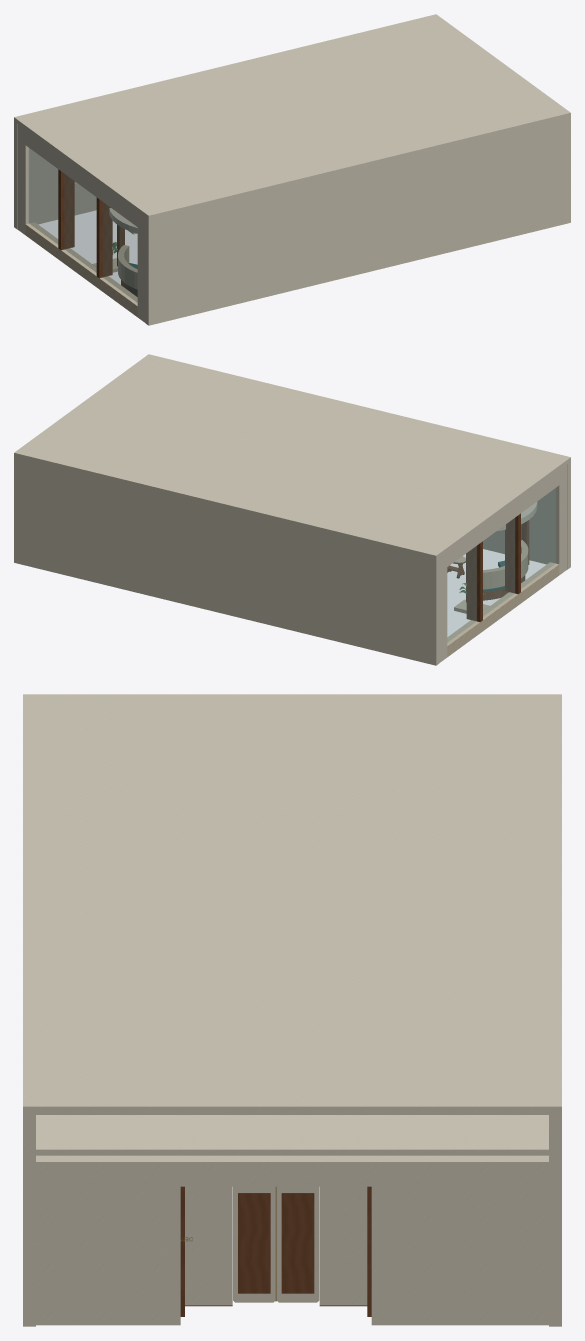
3 views of the same model, one above another, from view 1: azimuth 30°, elevation 25°; view 2: azimuth 150°, elevation 25°; view 3: azimuth 270°, elevation 25° (orthographic). The views are drawn at different scales.
Visible parts, largest first — view 1: UpperPressureClosure, SouthAcousticWall, CourtSealedPane2, CourtSealedPane1, CourtSealedPane0, CourtSill, NorthAcousticWall, CourtHead, CourtWallNorth, CourtDeepMullion0, CourtDeepMullion1, CourtWallSouth (+2 smaller); view 2: UpperPressureClosure, NorthAcousticWall, CourtSealedPane2, CourtSealedPane1, CourtSealedPane0, CourtSill, SouthAcousticWall, CourtHead, CourtWallSouth, CourtDeepMullion0, CourtDeepMullion1, CourtWallNorth (+1 smaller); view 3: UpperPressureClosure, EntryForeReturn, EntryAftReturn, RisingLivingRoof, EntryHeader, PrivateEntry_01_ENTRY_PocketSkin_-1_1, PrivateEntry_01_ENTRY_PocketSkin_1_1, PrivateEntry_01_ENTRY_TimberInset_LEFT_1, PrivateEntry_01_ENTRY_TimberInset_RIGHT_1, NorthAcousticWall, SouthAcousticWall, PrivateEntry_01_ENTRY_MovingPanel_LEFT (+1 smaller).
Part boxes in pixels (bbox=[...]): UpperPressureClosure: bbox=[14, 14, 570, 219]; SouthAcousticWall: bbox=[145, 117, 570, 325]; CourtSealedPane2: bbox=[103, 202, 137, 302]; CourtSealedPane1: bbox=[64, 174, 96, 272]; CourtSealedPane0: bbox=[29, 148, 57, 244]; CourtSill: bbox=[25, 222, 137, 316]; NorthAcousticWall: bbox=[14, 121, 76, 229]; CourtHead: bbox=[25, 130, 137, 226]; CourtWallNorth: bbox=[17, 124, 34, 234]; CourtDeepMullion0: bbox=[58, 169, 74, 250]; CourtDeepMullion1: bbox=[96, 197, 112, 278]; CourtWallSouth: bbox=[137, 212, 145, 322]; UpperPressureClosure: bbox=[14, 354, 570, 559]; NorthAcousticWall: bbox=[14, 457, 439, 665]; CourtSealedPane2: bbox=[521, 488, 555, 588]; CourtSealedPane1: bbox=[483, 518, 514, 616]; CourtSealedPane0: bbox=[447, 546, 476, 642]; CourtSill: bbox=[447, 562, 559, 656]; SouthAcousticWall: bbox=[483, 461, 570, 569]; CourtHead: bbox=[447, 470, 559, 566]; CourtWallSouth: bbox=[550, 464, 567, 574]; CourtDeepMullion0: bbox=[466, 541, 482, 621]; CourtDeepMullion1: bbox=[505, 513, 520, 594]; CourtWallNorth: bbox=[439, 552, 447, 662]; UpperPressureClosure: bbox=[23, 694, 561, 1114]; EntryForeReturn: bbox=[371, 1155, 548, 1325]; EntryAftReturn: bbox=[36, 1155, 180, 1325]; RisingLivingRoof: bbox=[36, 1115, 548, 1155]; EntryHeader: bbox=[180, 1155, 371, 1186]; PrivateEntry_01_ENTRY_PocketSkin_-1_1: bbox=[319, 1186, 367, 1304]; PrivateEntry_01_ENTRY_PocketSkin_1_1: bbox=[185, 1186, 232, 1304]; PrivateEntry_01_ENTRY_TimberInset_LEFT_1: bbox=[281, 1193, 314, 1293]; PrivateEntry_01_ENTRY_TimberInset_RIGHT_1: bbox=[238, 1193, 270, 1293]; NorthAcousticWall: bbox=[549, 1115, 561, 1326]; SouthAcousticWall: bbox=[23, 1115, 35, 1326]; PrivateEntry_01_ENTRY_MovingPanel_LEFT: bbox=[276, 1186, 319, 1302].
Bounding box in the file's own units: 17.88 × 4.45 × 9.88.
177 materials, 146 textured.
